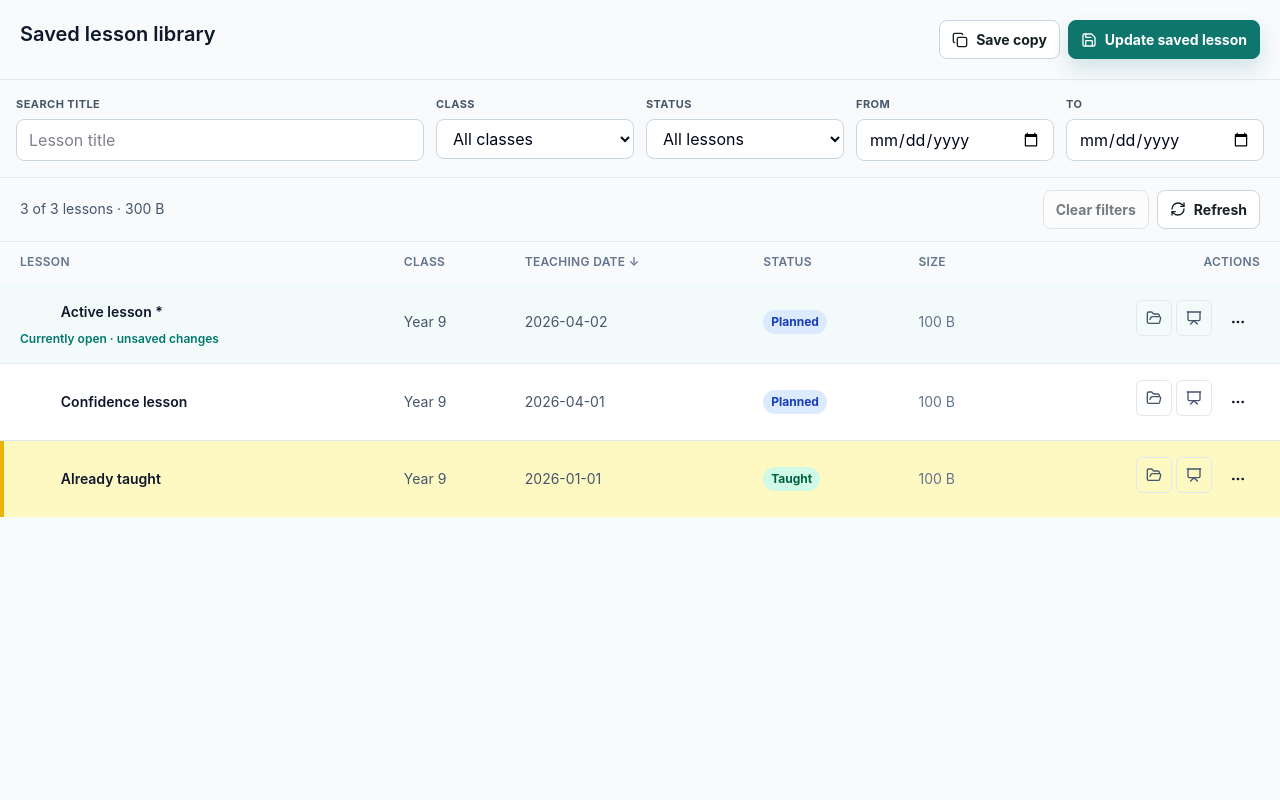
it: SavedLessonLibrary production actions › renders the A4 lesson bundle on the authenticated server
What coordinates should you click on to do the following:
click the button named "More actions for Active lesson" in the row of "Active lesson"
I would click on:
 (1238, 322)
Its box is [1216,300,1260,344].
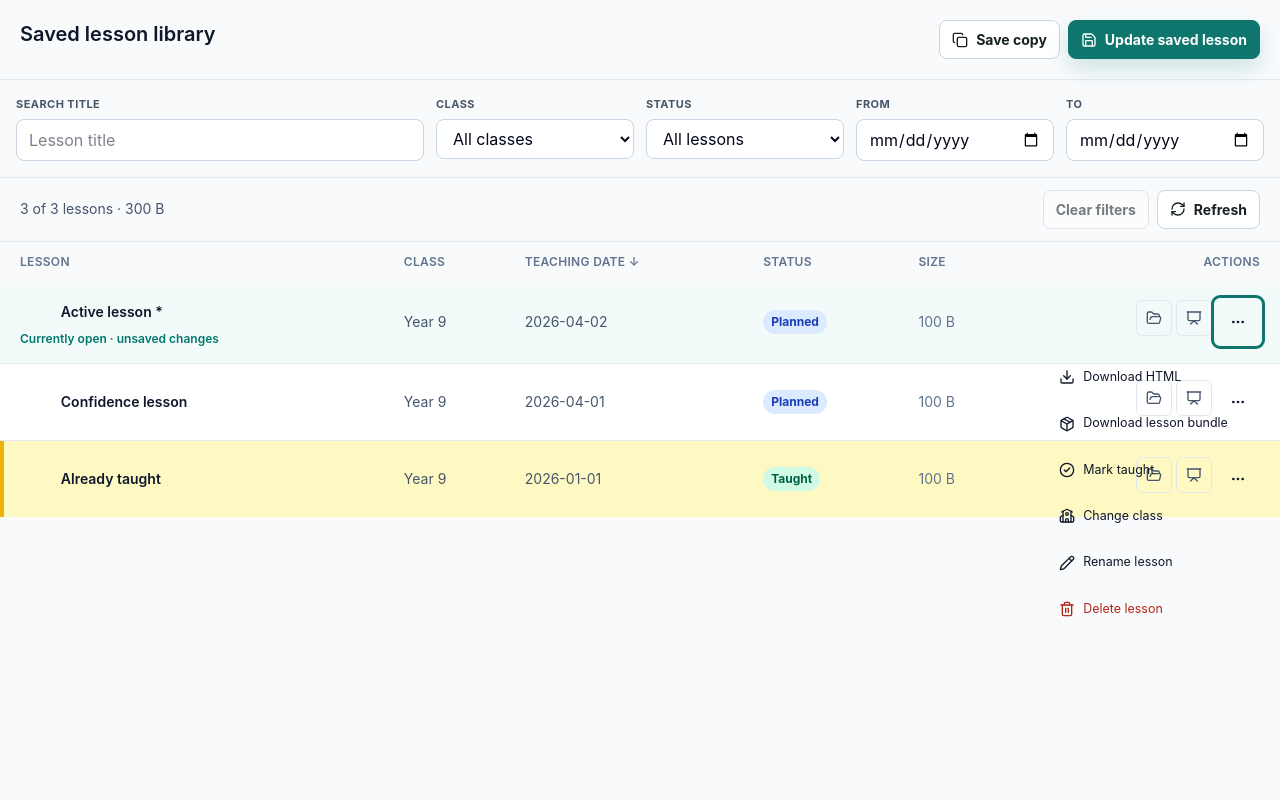
What coordinates should you click on to do the following:
click the button "Download lesson bundle"
I would click on:
 (1152, 424)
Its box is [1049,402,1255,446].
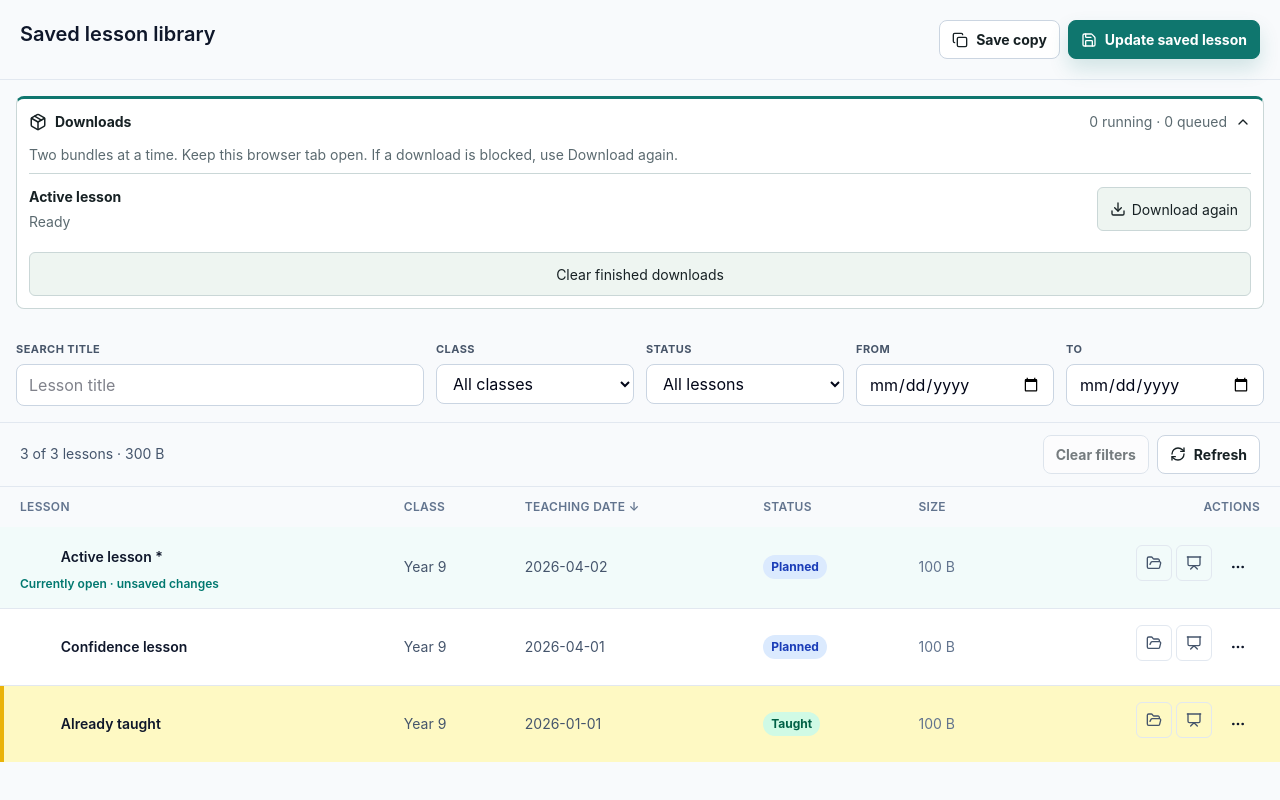
expect the element named "Bundle downloads" shows "Active lesson": met, box [29,188,121,205]
expect the button with aria-label "Download Active lesson again" is enabled: met, box [1097,187,1251,231]
